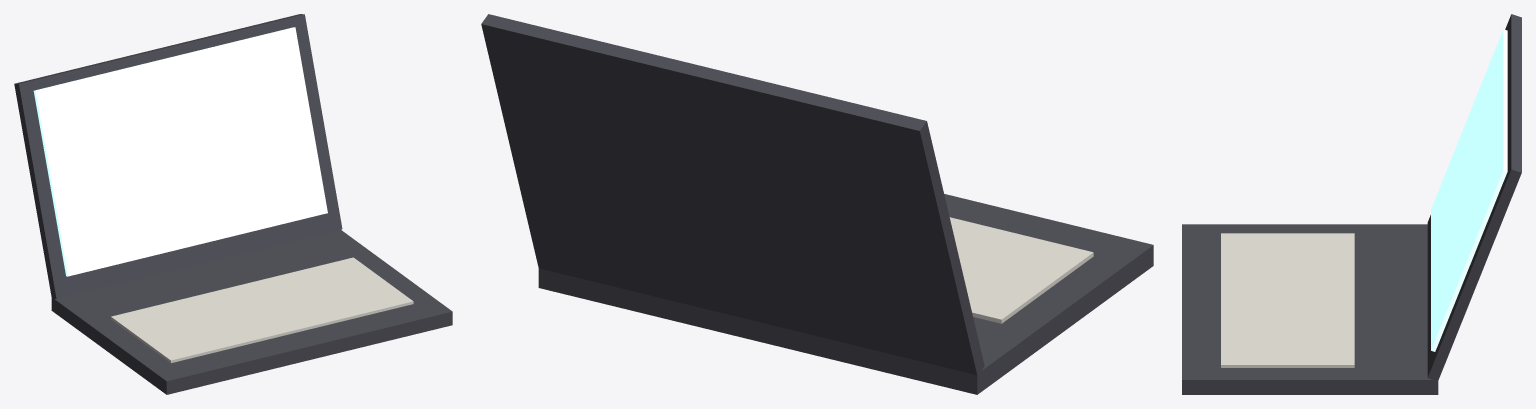
File: bb_set_laptop.fbx
3 views of the same model, side by side, from view 1: azimuth 30°, elevation 25°; view 2: azimuth 150°, elevation 25°; view 3: azimuth 270°, elevation 25° (orthographic). The views are drawn at different scales.
Parts seen in each view (by area): view 1: bb_set_laptop; view 2: bb_set_laptop; view 3: bb_set_laptop.
Part boxes in pixels (x1,y1,x2,y2): bb_set_laptop: (14, 14, 452, 394); bb_set_laptop: (481, 14, 1153, 394); bb_set_laptop: (1182, 14, 1521, 394).
Bounding box in the file's own units: 0.33 × 0.2234 × 0.3049.
